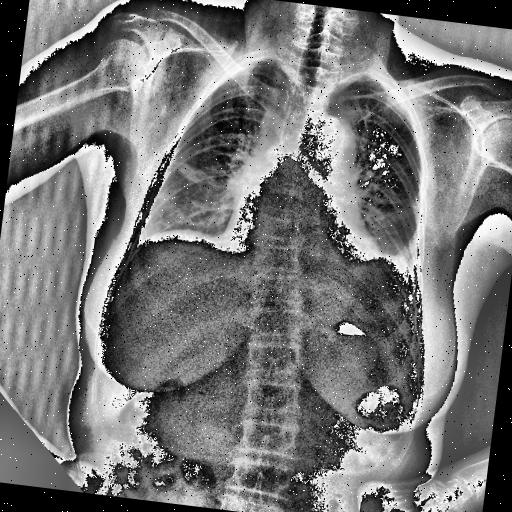0- Aortic enlargement: (280, 98, 364, 185), (267, 108, 361, 182)
1- Atelectasis: (333, 218, 414, 278), (160, 151, 219, 190)
10- Pleural effusion: (308, 220, 425, 302), (365, 239, 434, 295), (164, 152, 230, 196)
11- Pleural thickening: (164, 152, 230, 196)
3- Cardiomegaly: (214, 183, 410, 297)
4- Consolidation: (166, 160, 221, 191)
8- Nodule-Mass: (348, 240, 422, 318)
